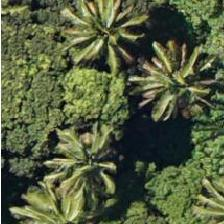coconut_tree: (35, 123, 125, 213), (141, 21, 223, 111), (39, 0, 129, 64), (14, 177, 104, 223)
